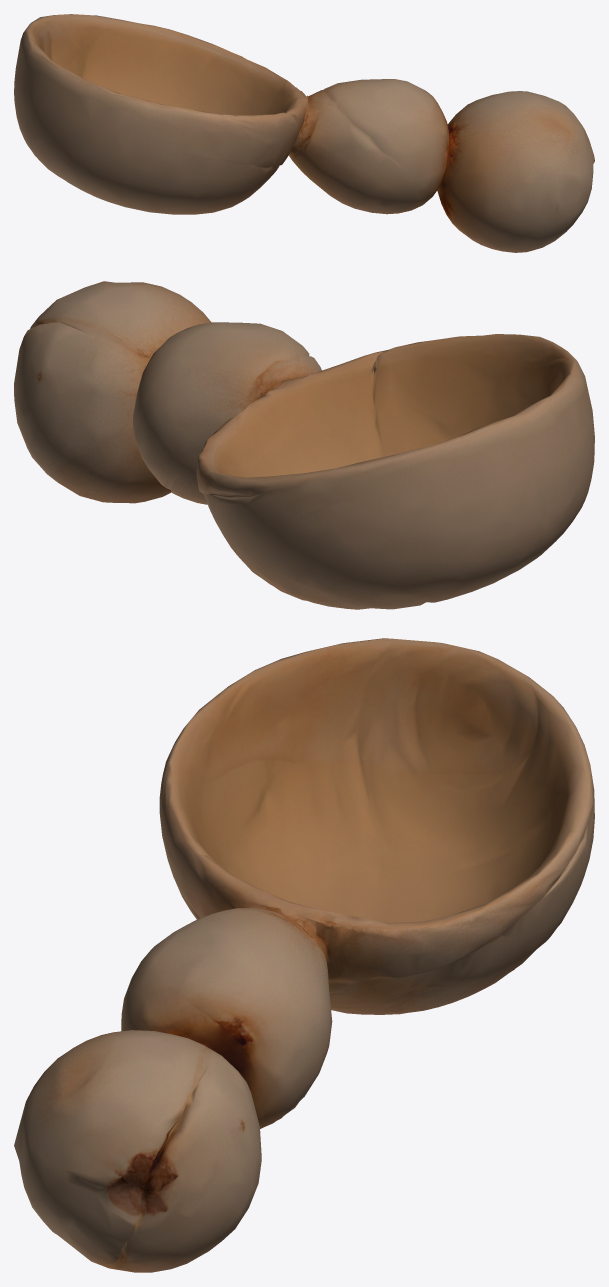
File: spiseredskap_08.glb
The picture shows the model from 3 angles, top to bottom: view 1: azimuth 30°, elevation 25°; view 2: azimuth 150°, elevation 25°; view 3: azimuth 270°, elevation 25°; orthographic projection. The views are drawn at different scales.
Parts seen in each view (by area): view 1: tripo_node_5f09a81b-08d7-42f9-9969-9f58cfda19ea; view 2: tripo_node_5f09a81b-08d7-42f9-9969-9f58cfda19ea; view 3: tripo_node_5f09a81b-08d7-42f9-9969-9f58cfda19ea.
Part boxes in pixels (<box>): tripo_node_5f09a81b-08d7-42f9-9969-9f58cfda19ea: <box>14,14,594,252</box>; tripo_node_5f09a81b-08d7-42f9-9969-9f58cfda19ea: <box>14,281,594,609</box>; tripo_node_5f09a81b-08d7-42f9-9969-9f58cfda19ea: <box>14,638,594,1272</box>.
Bounding box in the file's own units: 0.9813 × 0.4477 × 0.6995.
1 material, 1 textured.
